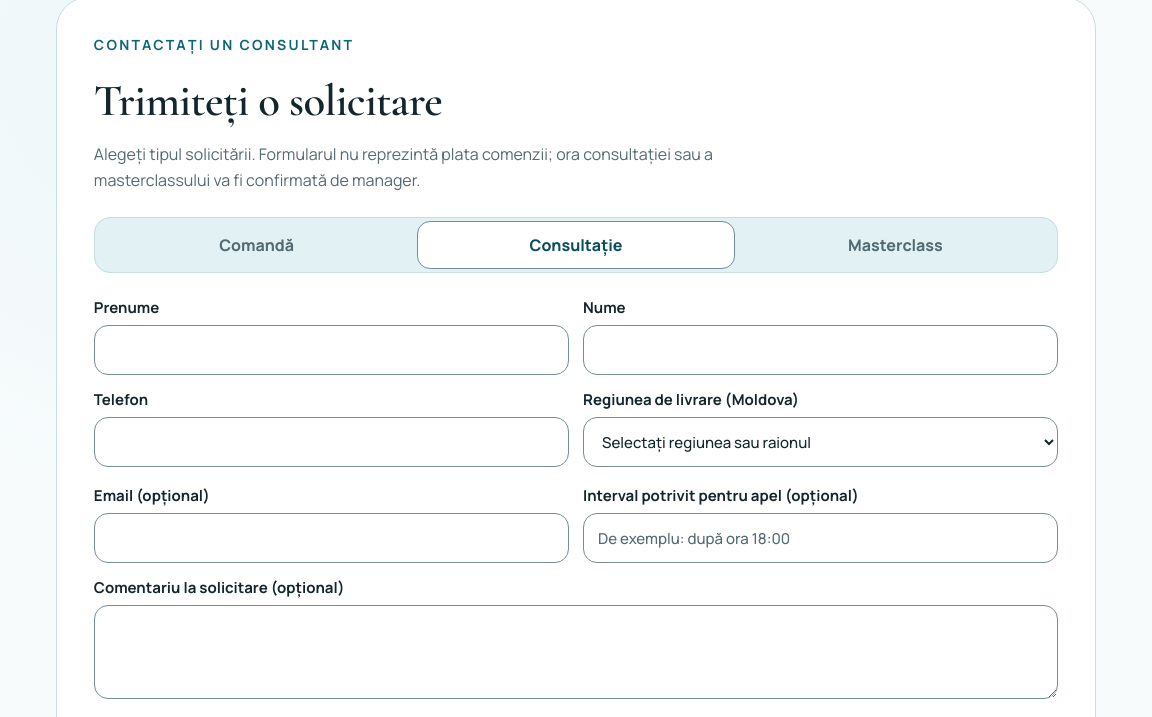
Test: ApplicationForm › renders the masterclass flow in Romanian while keeping canonical values
Click the button "Masterclass".
click(895, 245)  # box [738, 222, 1053, 268]
(page scrolled)
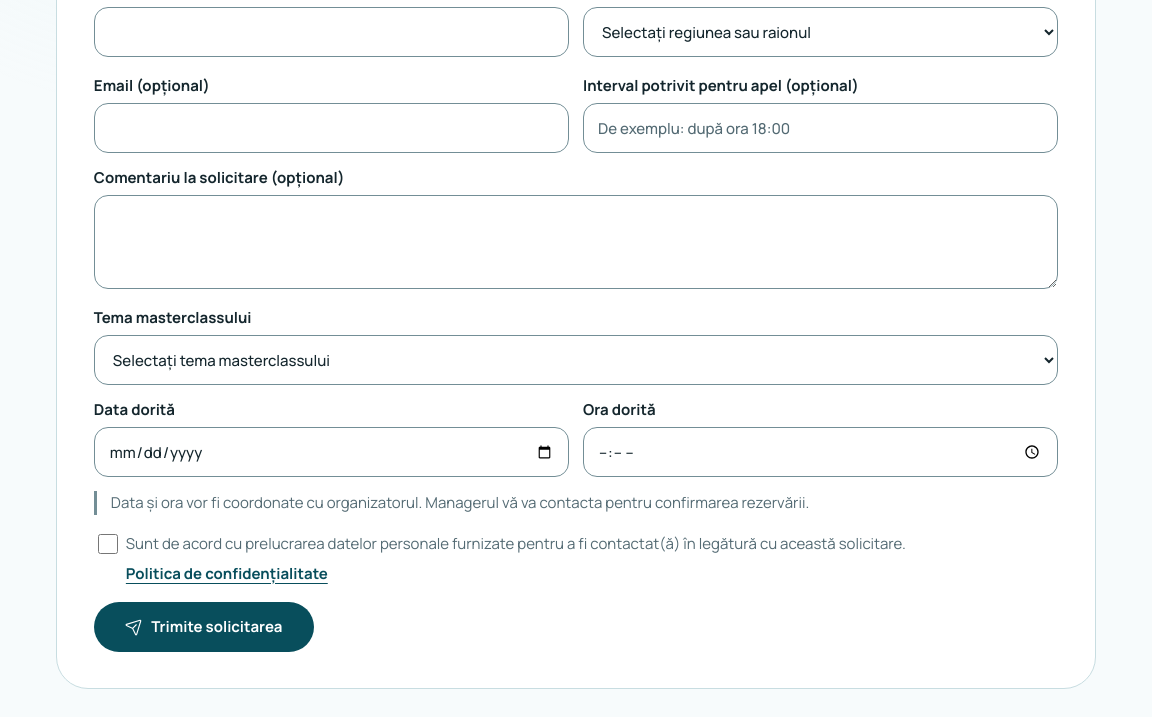
expect the dropdown labelled "Tema masterclassului" does not show "Комплексный уход за кожей и антивозрастные программы Halo Complex": met, box [94, 335, 1058, 385]
expect the date field labelled "Data dorită" is shown: met, box [94, 427, 569, 477]
expect the time field labelled "Ora dorită" is shown: met, box [583, 427, 1058, 477]
